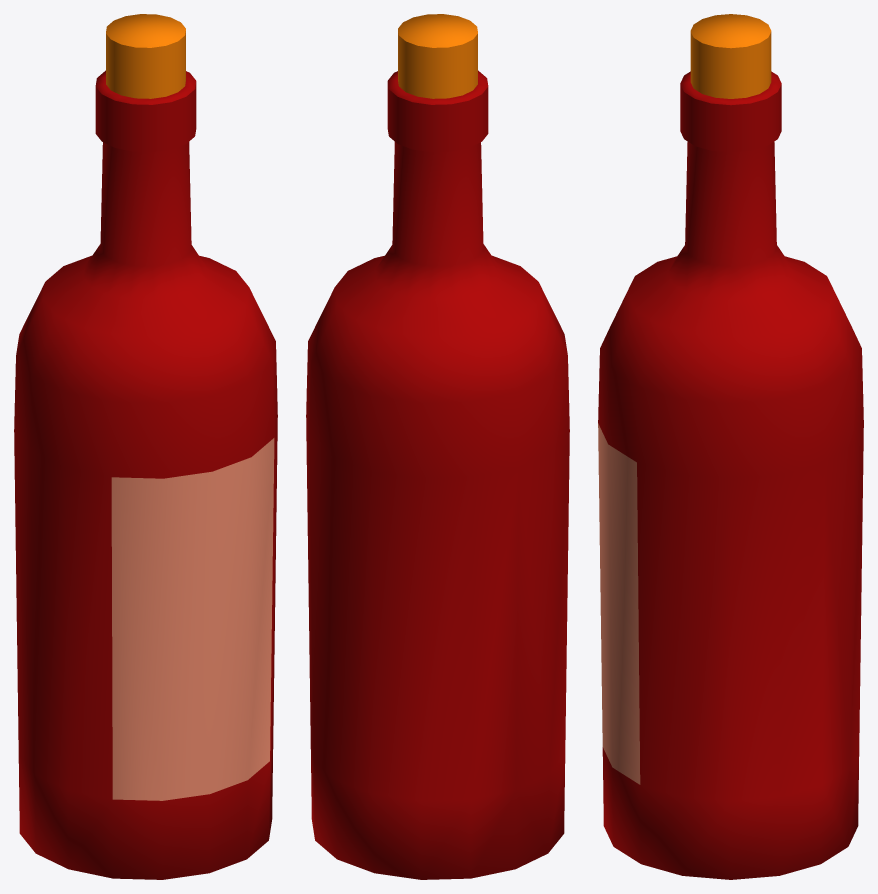
Rendered from bottle.fbx.
3 renders of one model, left to right at view 1: azimuth 30°, elevation 25°; view 2: azimuth 150°, elevation 25°; view 3: azimuth 270°, elevation 25°, orthographic.
Visible parts, largest first — view 1: bad_01; view 2: bad_01; view 3: bad_01.
Boxes of the visible parts, x1,y1,x2,y2 form: bad_01: [14, 14, 277, 879]; bad_01: [306, 14, 569, 879]; bad_01: [598, 14, 863, 879].
Size of the model in its own units: 19.75 by 65.79 by 19.75.
Materials: 1 (1 with a texture image).
